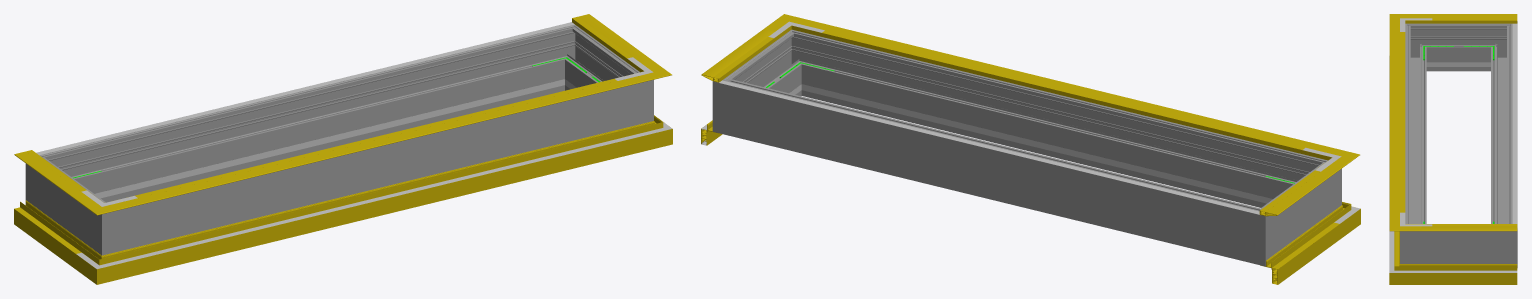
The picture shows the model from 3 angles, left to right: view 1: azimuth 30°, elevation 25°; view 2: azimuth 150°, elevation 25°; view 3: azimuth 270°, elevation 25°; orthographic projection. The views are drawn at different scales.
Visible parts, largest first — view 1: 3DGeom-276, 3DGeom-298, 3DGeom-90, 3DGeom-141, 3DGeom-244, 3DGeom-270, 3DGeom-220, 3DGeom-100, 3DGeom-158, 3DGeom-284, 3DGeom-85, 3DGeom-290 (+9 smaller); view 2: 3DGeom-298, 3DGeom-276, 3DGeom-141, 3DGeom-278, 3DGeom-239, 3DGeom-284, 3DGeom-220, 3DGeom-85, 3DGeom-158, 3DGeom-290, 3DGeom-297, 3DGeom-268 (+6 smaller); view 3: 3DGeom-298, 3DGeom-276, 3DGeom-268, 3DGeom-141, 3DGeom-97, 3DGeom-297, 3DGeom-220, 3DGeom-284, 3DGeom-290, 3DGeom-158, 3DGeom-278, 3DGeom-270 (+15 smaller).
Boxes of the visible parts, bbox=[...] form: 3DGeom-276: bbox=[65, 32, 558, 202]; 3DGeom-298: bbox=[138, 88, 617, 246]; 3DGeom-90: bbox=[126, 127, 636, 275]; 3DGeom-141: bbox=[126, 78, 636, 206]; 3DGeom-244: bbox=[107, 87, 530, 196]; 3DGeom-270: bbox=[81, 193, 137, 255]; 3DGeom-220: bbox=[36, 22, 574, 155]; 3DGeom-100: bbox=[130, 135, 636, 260]; 3DGeom-158: bbox=[135, 78, 617, 197]; 3DGeom-284: bbox=[545, 24, 592, 91]; 3DGeom-85: bbox=[14, 200, 87, 269]; 3DGeom-290: bbox=[618, 62, 653, 129]; 3DGeom-298: bbox=[807, 37, 1302, 207]; 3DGeom-276: bbox=[748, 85, 1235, 257]; 3DGeom-141: bbox=[810, 23, 1323, 156]; 3DGeom-278: bbox=[1229, 198, 1286, 266]; 3DGeom-239: bbox=[836, 92, 1259, 201]; 3DGeom-284: bbox=[712, 67, 755, 140]; 3DGeom-220: bbox=[719, 80, 1259, 214]; 3DGeom-85: bbox=[1260, 215, 1339, 284]; 3DGeom-158: bbox=[822, 30, 1304, 149]; 3DGeom-290: bbox=[774, 29, 821, 97]; 3DGeom-297: bbox=[739, 42, 798, 95]; 3DGeom-268: bbox=[1275, 173, 1320, 245]; 3DGeom-298: bbox=[1405, 35, 1426, 223]; 3DGeom-276: bbox=[1491, 35, 1512, 223]; 3DGeom-268: bbox=[1432, 23, 1485, 71]; 3DGeom-141: bbox=[1389, 27, 1399, 217]; 3DGeom-97: bbox=[1421, 264, 1517, 284]; 3DGeom-297: bbox=[1432, 231, 1485, 263]; 3DGeom-220: bbox=[1512, 23, 1517, 227]; 3DGeom-284: bbox=[1485, 216, 1517, 267]; 3DGeom-290: bbox=[1400, 216, 1431, 263]; 3DGeom-158: bbox=[1400, 32, 1405, 212]; 3DGeom-278: bbox=[1485, 21, 1517, 71]; 3DGeom-270: bbox=[1405, 23, 1431, 71].
Bounding box in the file's own units: 2.44 × 0.2829 × 0.6096.
